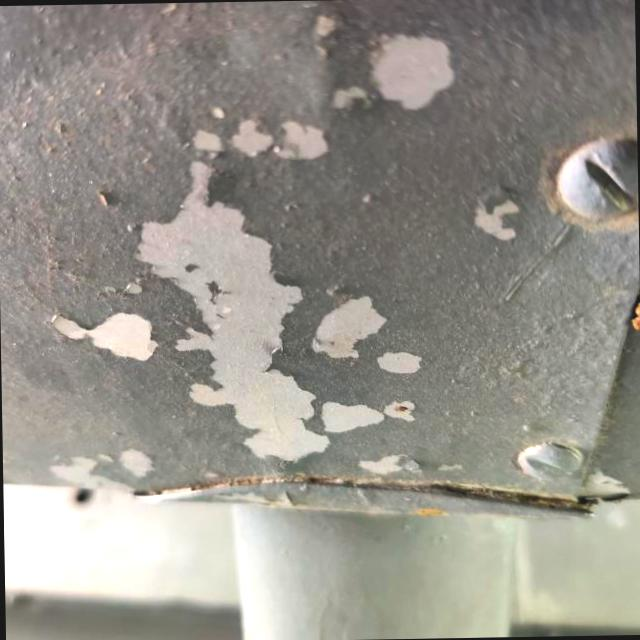paint-off: (26, 108, 442, 493), (348, 0, 468, 144)
